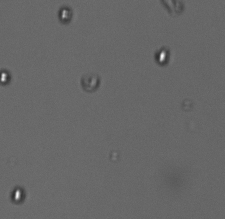Dead Cell: (81, 72, 100, 93), (161, 1, 185, 15)
Living Cell: (155, 46, 173, 66), (57, 6, 75, 23), (9, 185, 24, 204), (1, 70, 9, 88)
